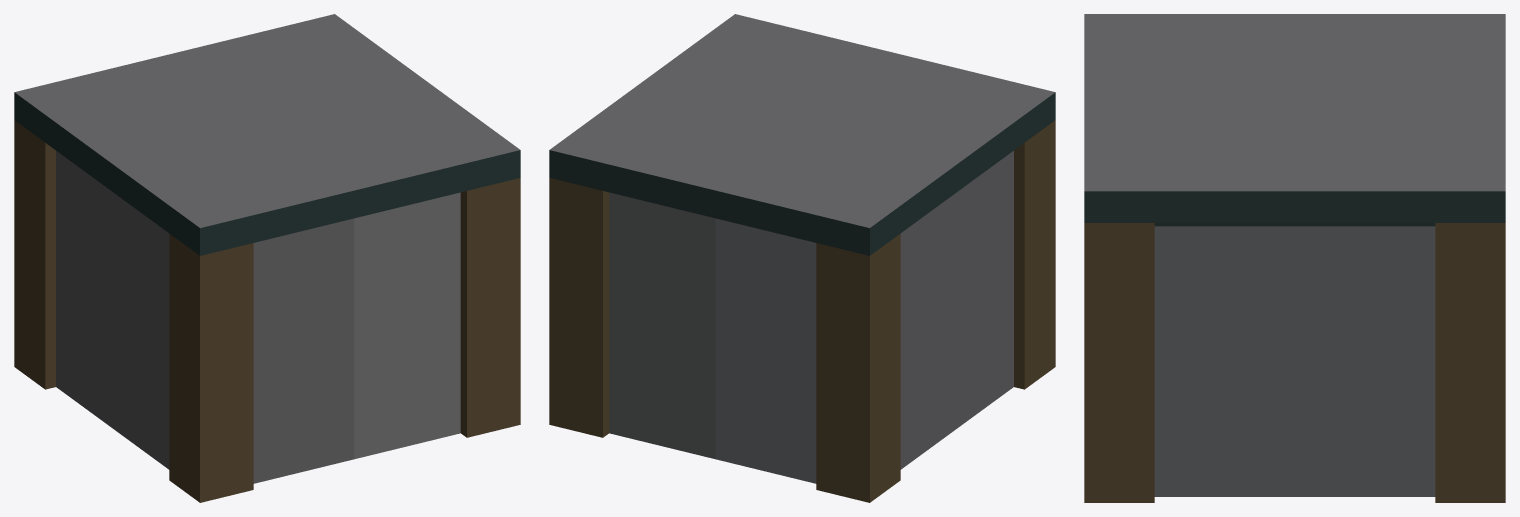
The model's file is Roof_Flat_01.obj.
The picture shows the model from 3 angles, left to right: view 1: azimuth 30°, elevation 25°; view 2: azimuth 150°, elevation 25°; view 3: azimuth 270°, elevation 25°; orthographic projection. The views are drawn at different scales.
Visible parts, largest first — view 1: Mesh1_Roof_Slant_Green_Model.001; view 2: Mesh1_Roof_Slant_Green_Model.001; view 3: Mesh1_Roof_Slant_Green_Model.001.
Boxes of the visible parts, x1,y1,x2,y2 form: Mesh1_Roof_Slant_Green_Model.001: [14, 14, 520, 502]; Mesh1_Roof_Slant_Green_Model.001: [549, 14, 1055, 502]; Mesh1_Roof_Slant_Green_Model.001: [1084, 14, 1505, 502].
Bounding box in the file's own units: 2.99 × 2.45 × 3.
